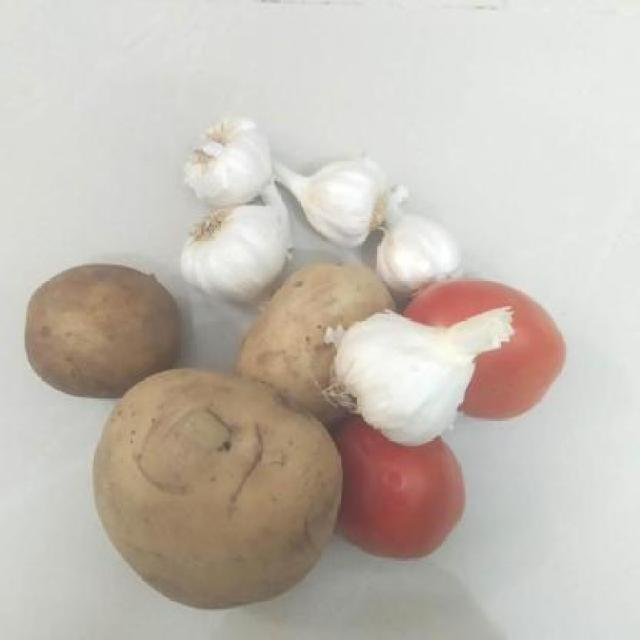Garlic: (323, 308, 517, 443), (186, 188, 291, 297), (277, 162, 400, 250), (183, 115, 277, 211), (372, 211, 462, 297)
Potato: (17, 268, 192, 402)
Sponge Gourd: (89, 364, 342, 614)
Tomato: (332, 429, 474, 558)
